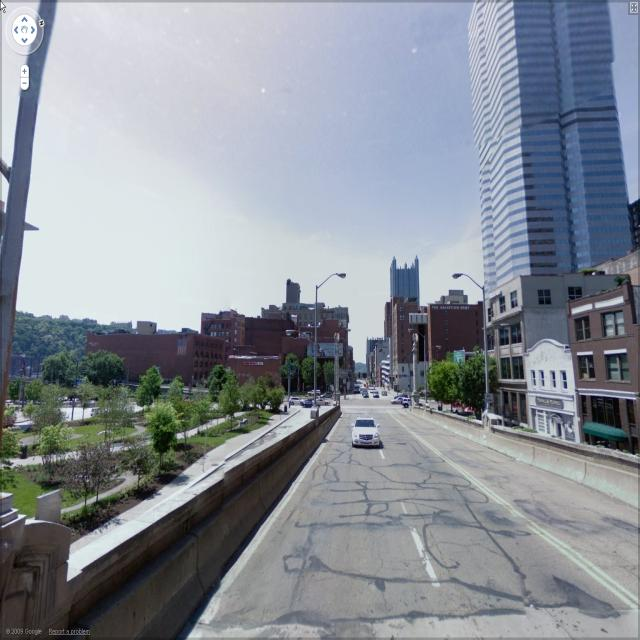b_1: (465, 1, 633, 269), (574, 290, 640, 466), (79, 326, 233, 384), (490, 282, 547, 438), (532, 338, 588, 451), (224, 318, 298, 382), (432, 294, 488, 370), (391, 291, 428, 398), (195, 304, 255, 360), (365, 334, 397, 400), (387, 254, 421, 304)
